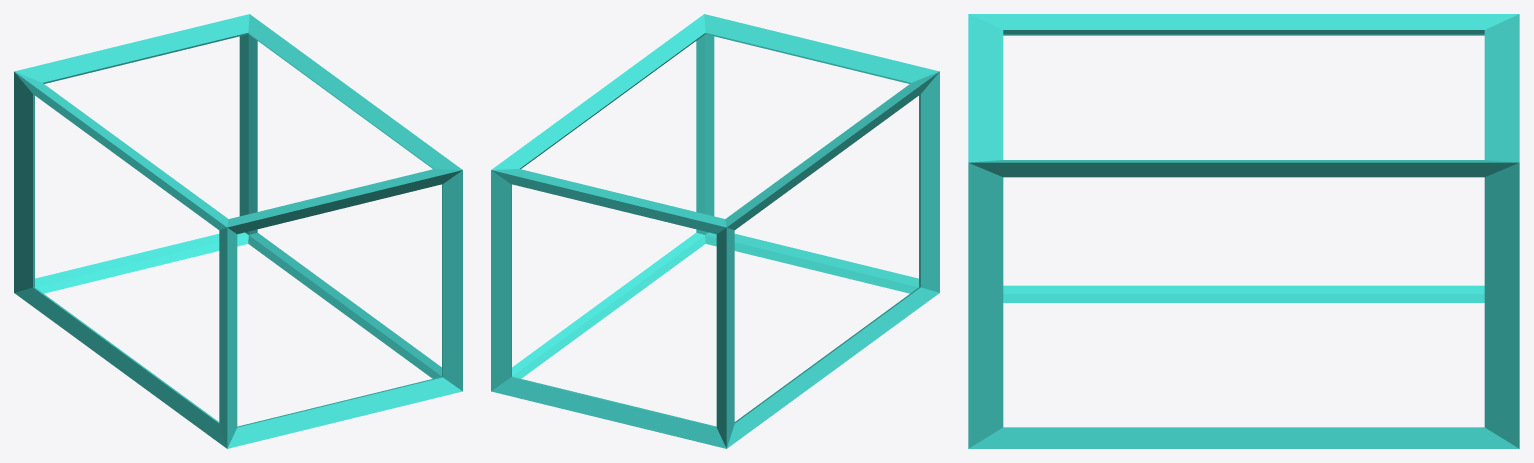
3 renders of one model, left to right at view 1: azimuth 30°, elevation 25°; view 2: azimuth 150°, elevation 25°; view 3: azimuth 270°, elevation 25°, orthographic. The views are drawn at different scales.
Parts seen in each view (by area): view 1: Cube; view 2: Cube; view 3: Cube.
Part boxes in pixels (bbox=[...]): Cube: bbox=[14, 14, 462, 448]; Cube: bbox=[491, 14, 939, 448]; Cube: bbox=[968, 14, 1519, 448].
Bounding box in the file's own units: 231 × 207 × 362.
